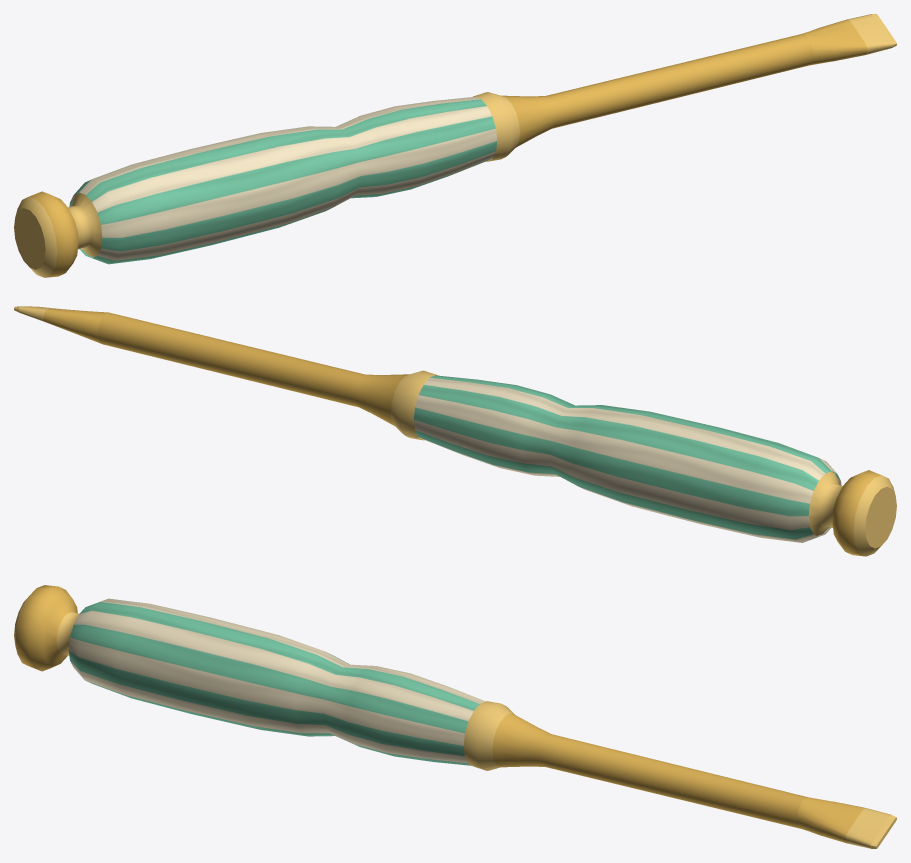
The model's file is table_tournevis.glb.
The picture shows the model from 3 angles, top to bottom: view 1: azimuth 30°, elevation 25°; view 2: azimuth 150°, elevation 25°; view 3: azimuth 330°, elevation 25°; orthographic projection.
Visible parts, largest first — view 1: table_tournevis; view 2: table_tournevis; view 3: table_tournevis.
Part boxes in pixels (x1,y1,x2,y2): table_tournevis: (14,14,896,277); table_tournevis: (14,306,896,556); table_tournevis: (14,585,896,848).
Size of the model in its own units: 10 by 1 by 1.
3 materials, 1 textured.
